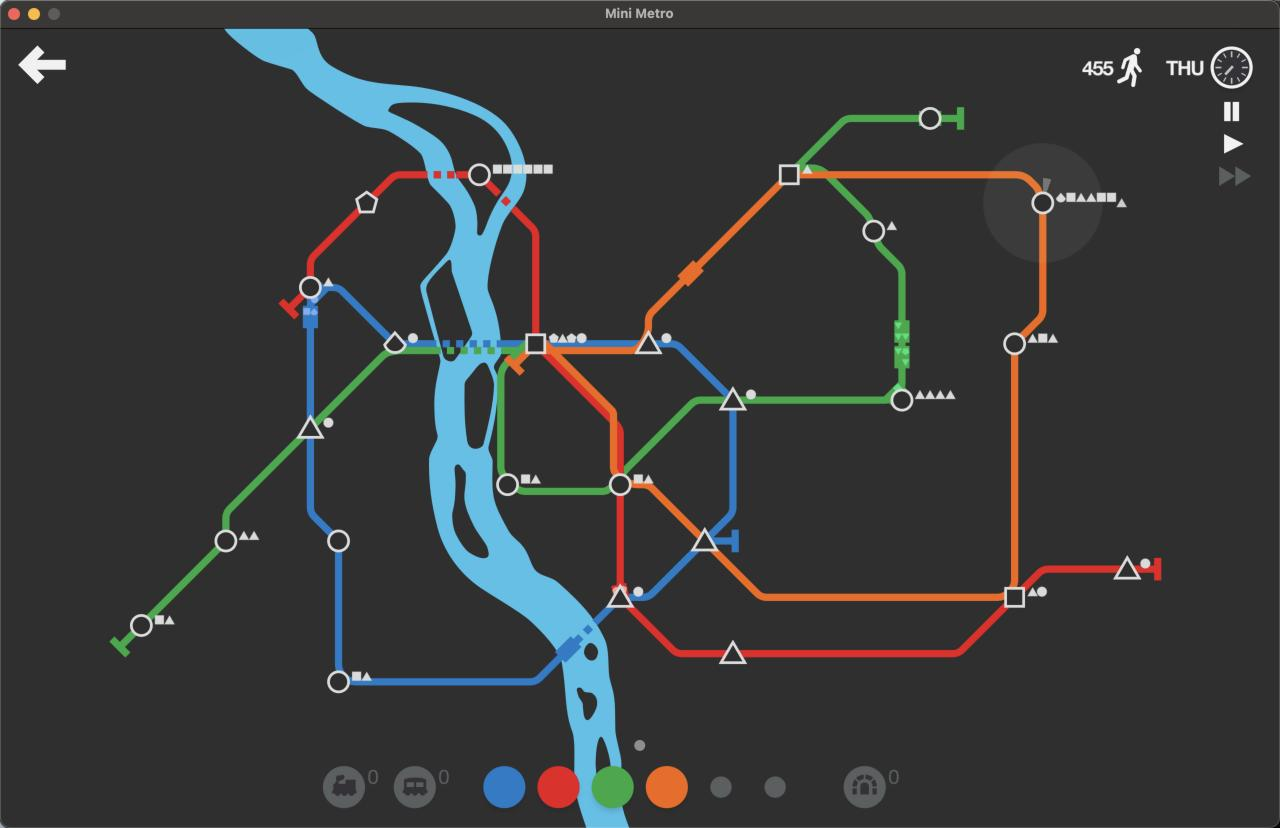CIRCLE: (326, 529, 351, 554), (298, 275, 322, 300), (495, 472, 519, 497), (862, 219, 886, 243), (1031, 191, 1055, 215), (326, 670, 350, 694), (608, 472, 632, 496), (214, 529, 238, 553), (890, 388, 914, 412), (1003, 331, 1026, 356), (130, 613, 153, 637), (468, 163, 491, 186), (919, 106, 941, 130)
PENTAGON: (354, 191, 378, 214)
SQUARE: (778, 164, 800, 186), (525, 332, 546, 354), (1004, 587, 1026, 608)
TRIANGLE: (1112, 554, 1140, 581), (718, 386, 747, 412), (718, 639, 747, 665), (691, 527, 719, 553), (296, 415, 324, 440), (635, 330, 663, 355), (606, 584, 634, 609)
WEDGE: (383, 330, 407, 354)
